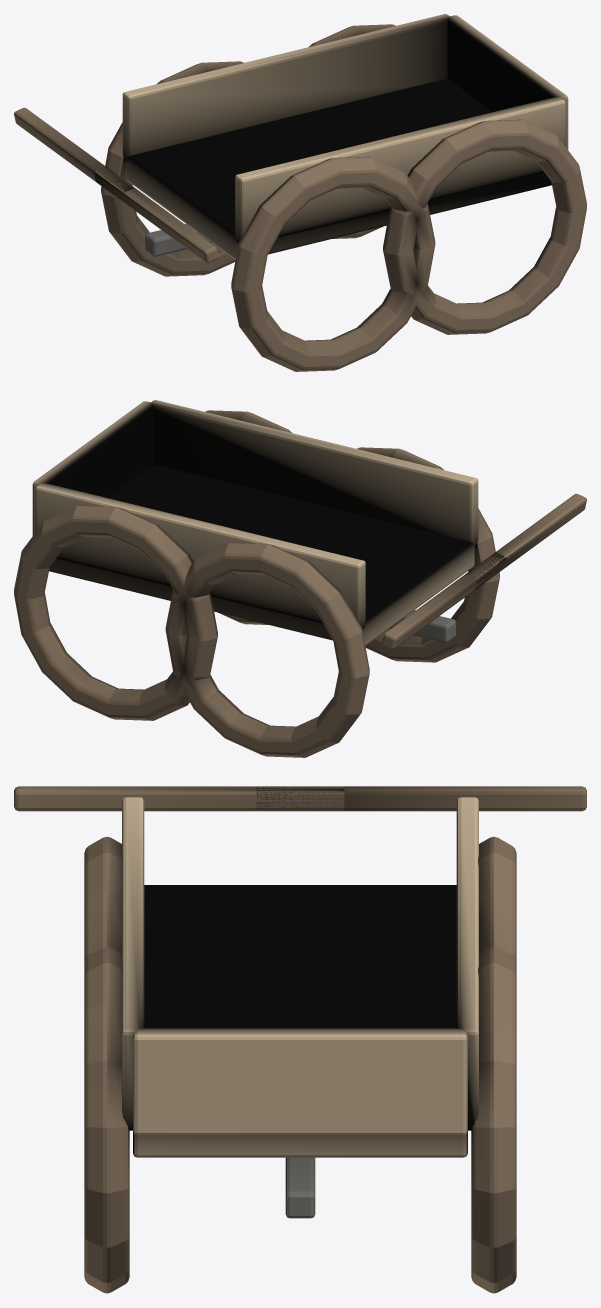
The model's file is cart.glb.
The picture shows the model from 3 angles, top to bottom: view 1: azimuth 30°, elevation 25°; view 2: azimuth 150°, elevation 25°; view 3: azimuth 270°, elevation 25°; orthographic projection. The views are drawn at different scales.
Parts seen in each view (by area): view 1: bed; view 2: bed; view 3: bed.
Part boxes in pixels (<box>): bed: <box>14,14,586,371</box>; bed: <box>14,400,586,757</box>; bed: <box>14,786,586,1293</box>.
Bounding box in the file's own units: 1.98 × 0.9329 × 1.54.
